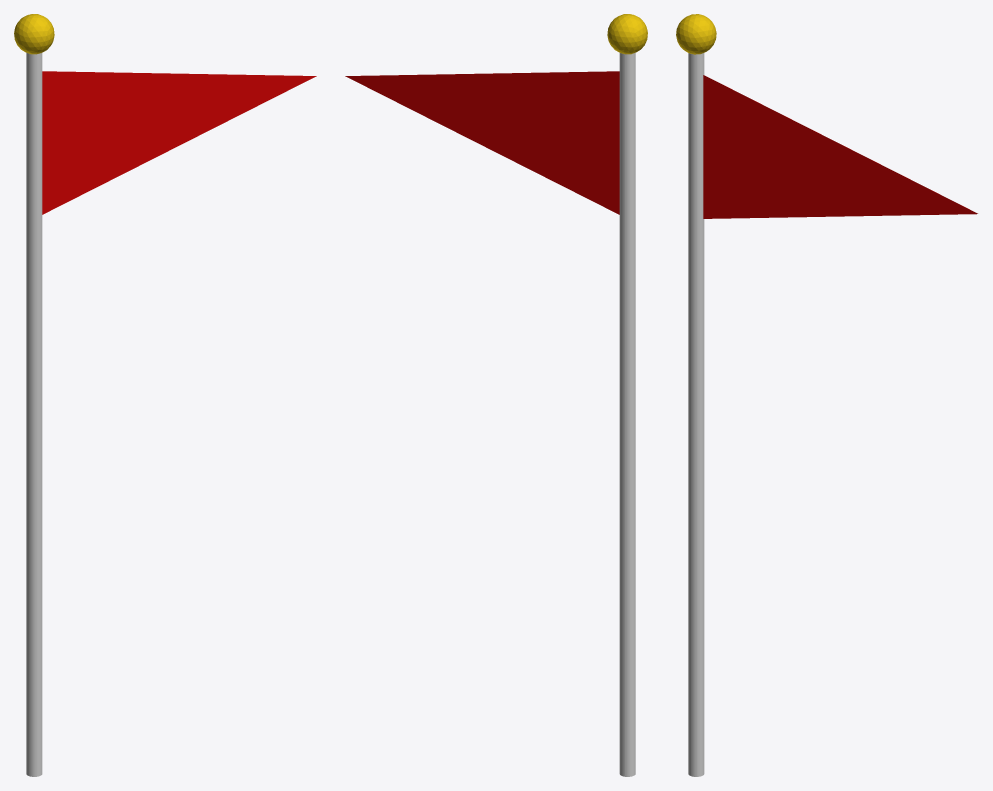
Rendered from pole.fbx.
3 renders of one model, left to right at view 1: azimuth 30°, elevation 25°; view 2: azimuth 150°, elevation 25°; view 3: azimuth 330°, elevation 25°, orthographic.
Visible parts, largest first — view 1: Flag, Pole, PoleTop; view 2: Flag, Pole, PoleTop; view 3: Flag, Pole, PoleTop.
Part boxes in pixels (x1,y1,x2,y2): Flag: (42,71,316,214); Pole: (26,52,42,776); PoleTop: (14,14,54,54); Flag: (345,71,619,214); Pole: (619,52,635,776); PoleTop: (607,14,647,54); Flag: (703,75,977,218); Pole: (688,53,704,776); PoleTop: (676,14,716,54).
Bounding box in the file's own units: 106 × 256 × 12.5.
